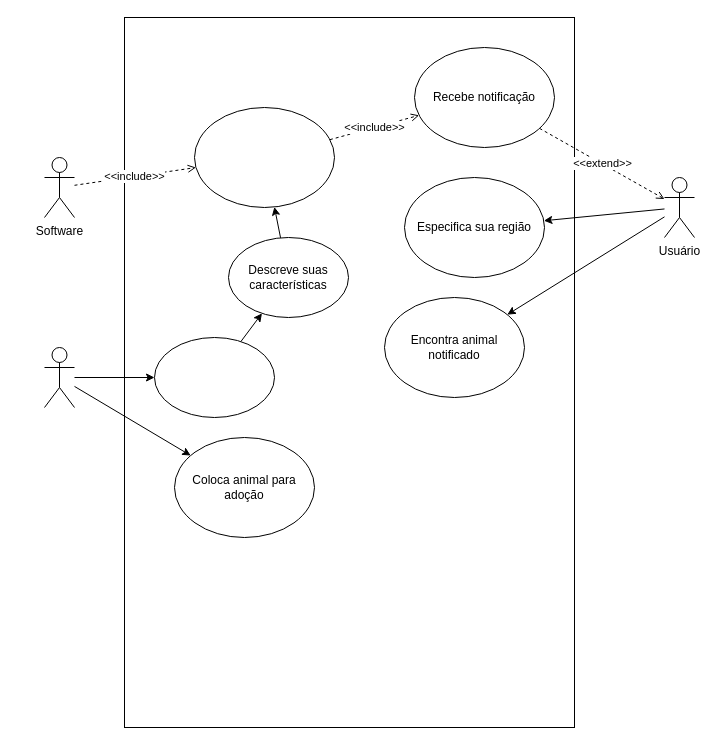
The diagram is 717 pixels wide and 745 high, and some of its shapes have lost their labels. The shapes that lost their labels are listed below. From the top down, each one's box as (x1, y1, x2, y2) in pixels, then its label:
(194, 106, 334, 208): Notifica usuários da região sobre o animal perdido
(44, 346, 74, 408): Dono de Animal
(154, 336, 274, 418): Alerta perda de animal
